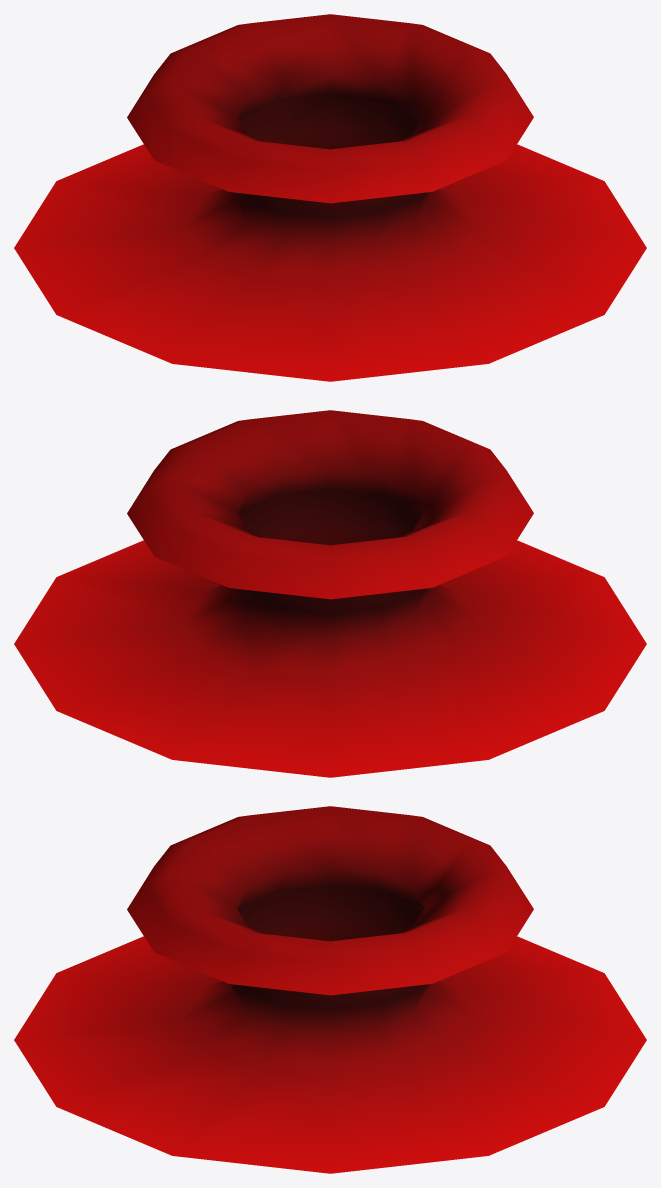
The model's file is SM_WaterShield7.fbx.
The picture shows the model from 3 angles, top to bottom: view 1: azimuth 30°, elevation 25°; view 2: azimuth 150°, elevation 25°; view 3: azimuth 270°, elevation 25°; orthographic projection.
Visible parts, largest first — view 1: Sphere; view 2: Sphere; view 3: Sphere.
Part boxes in pixels (left/top/right/bottom): Sphere: left=14, top=14, right=646, bottom=381; Sphere: left=14, top=410, right=646, bottom=777; Sphere: left=14, top=806, right=646, bottom=1173.
Size of the model in its own units: 630 by 183 by 630.
